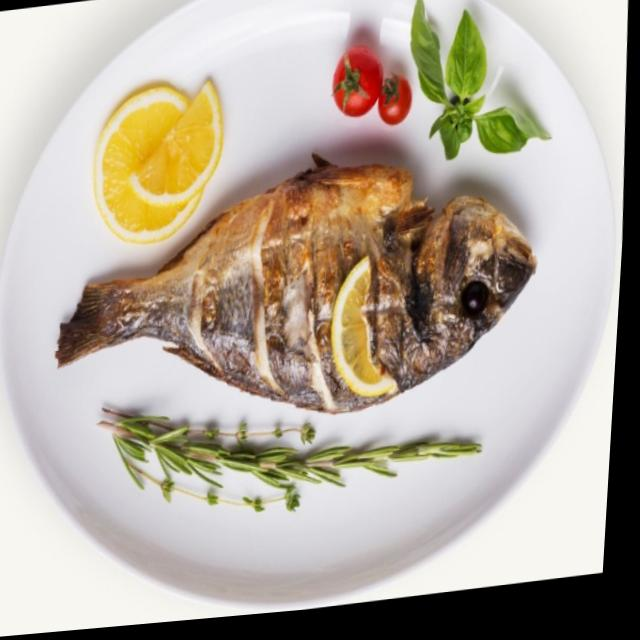FISH FRY: (56, 155, 536, 413)
